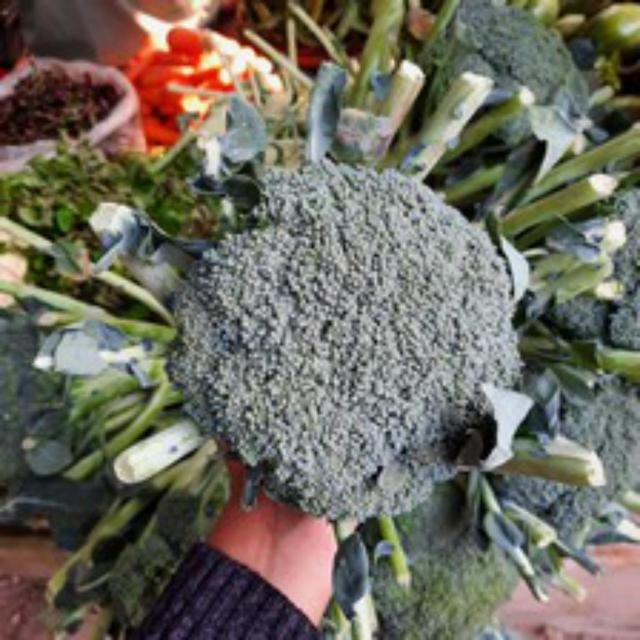broccoli: (178, 150, 526, 528)
